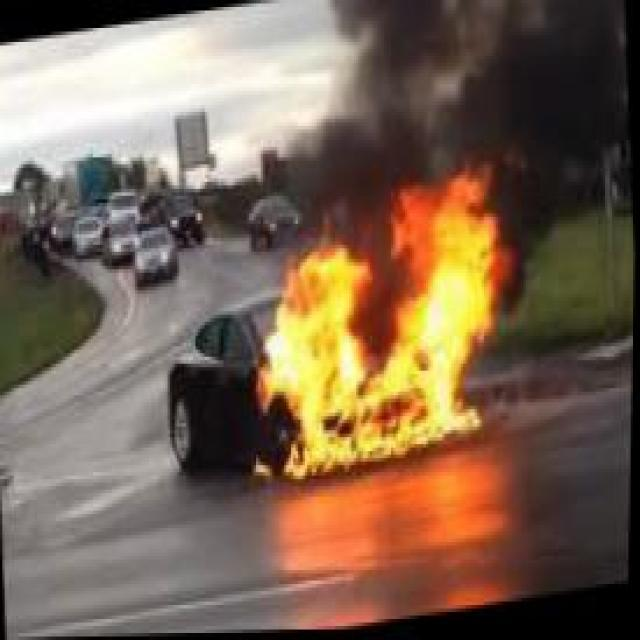Fire: (235, 147, 538, 500)
Smoke: (263, 0, 630, 192)
